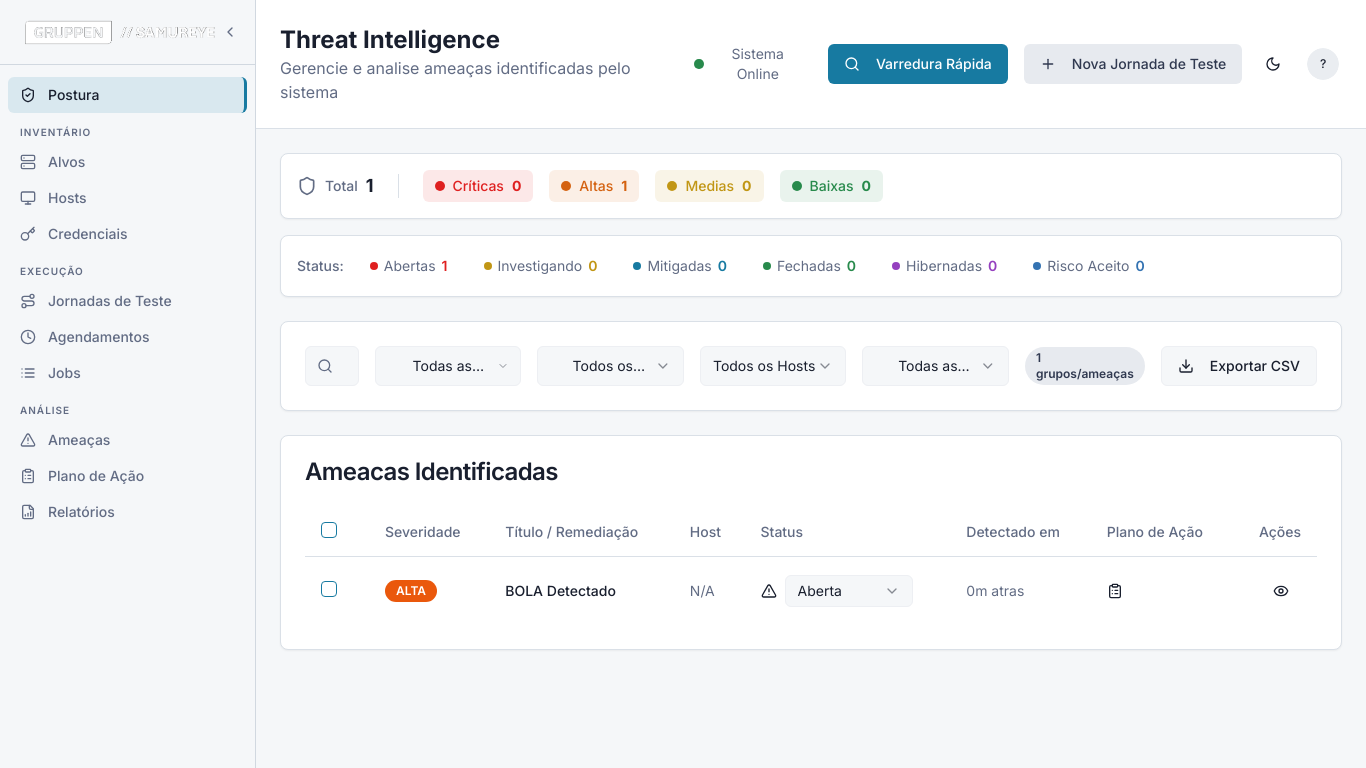
Test case: UI-05 — False Positive Marking › "Falso Positivo" action button is rendered per row when sourceFilter = "api_security"
What coordinates should you click on to do the following:
click the dropdown with test id "select-source-filter"
I would click on:
 (936, 366)
Its box is [862,346,1009,386].
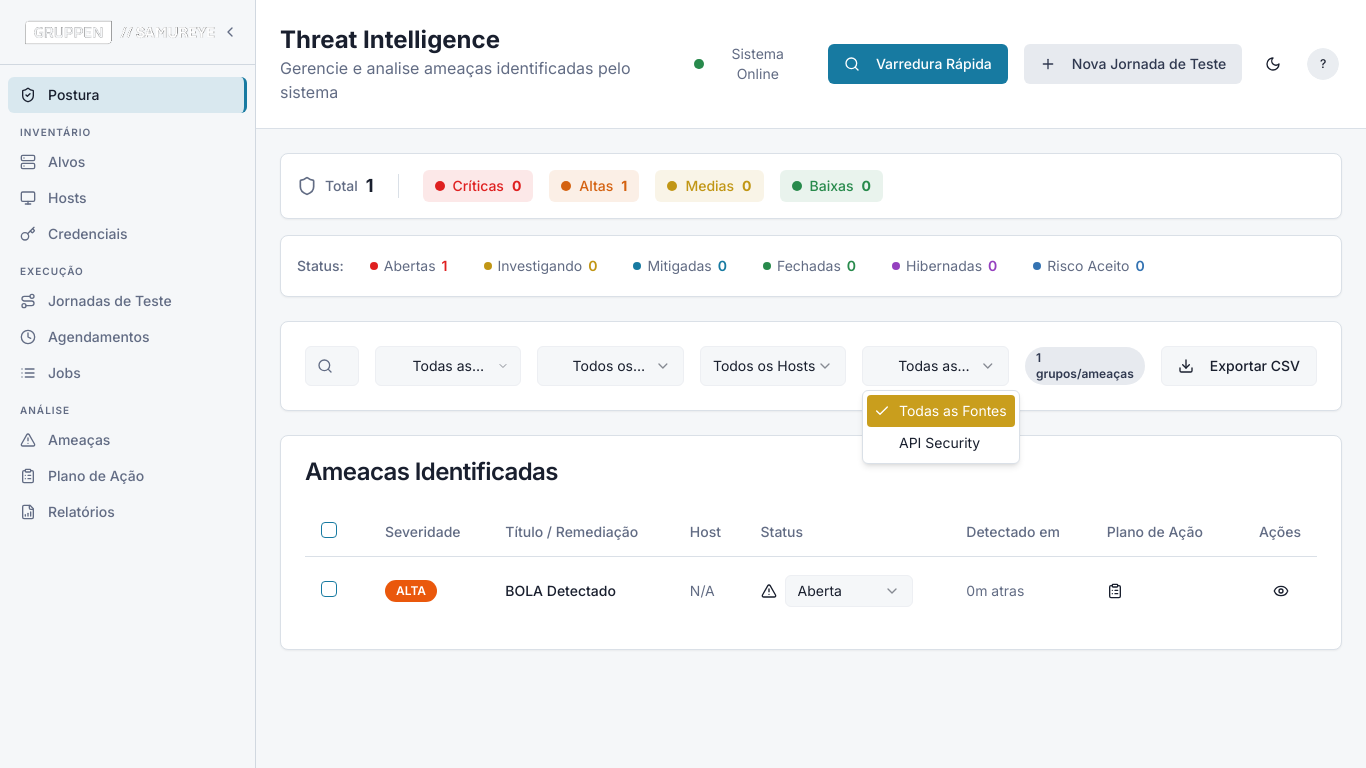
What coordinates should you click on to do the following:
click the option "API Security"
I would click on:
 (940, 442)
Its box is [899,434,980,451].
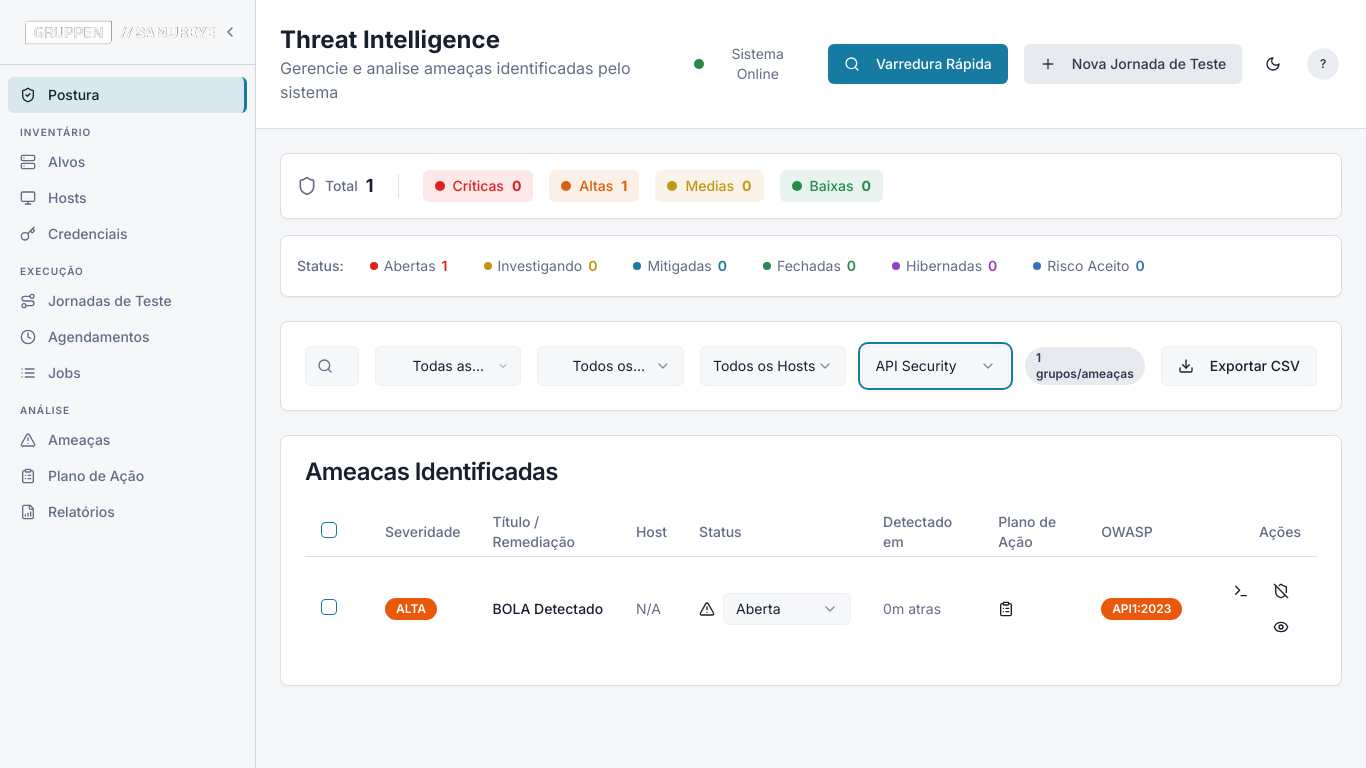
Result: the button with test id "button-false-positive-t1" is shown at [1261,572,1301,608]
